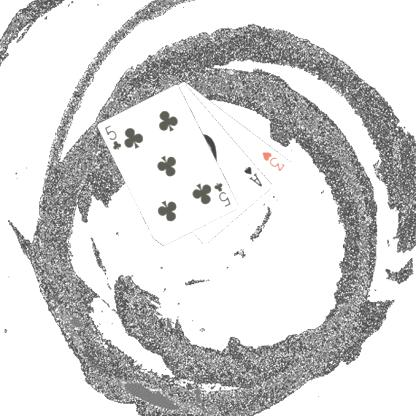3H: (260, 149, 286, 173)
5C: (102, 122, 124, 152), (211, 180, 233, 209)
AS: (241, 164, 264, 188)
